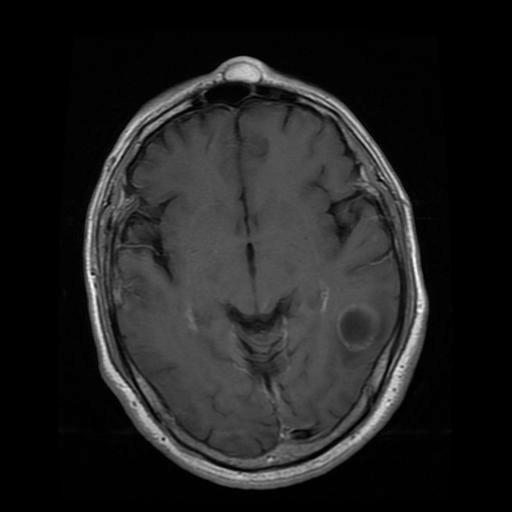Tumour-Glioma: (322, 297, 399, 353)
